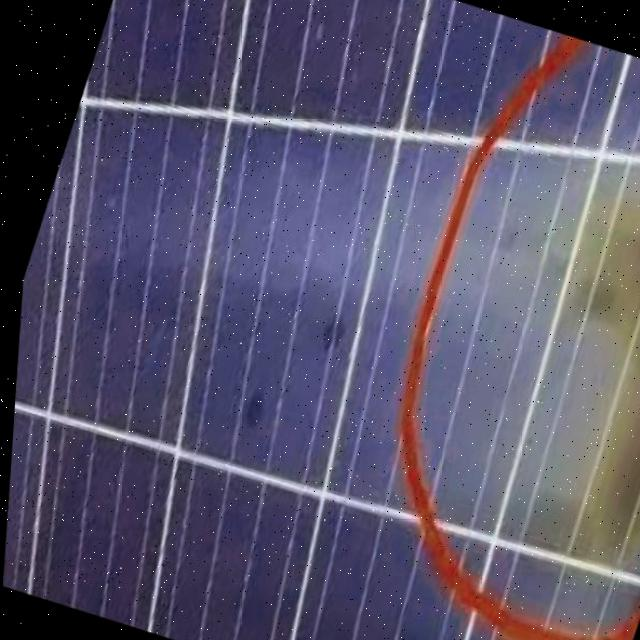Anomaly Solar Panel: (1, 0, 640, 640)
Structural Damage: (460, 121, 640, 583)
